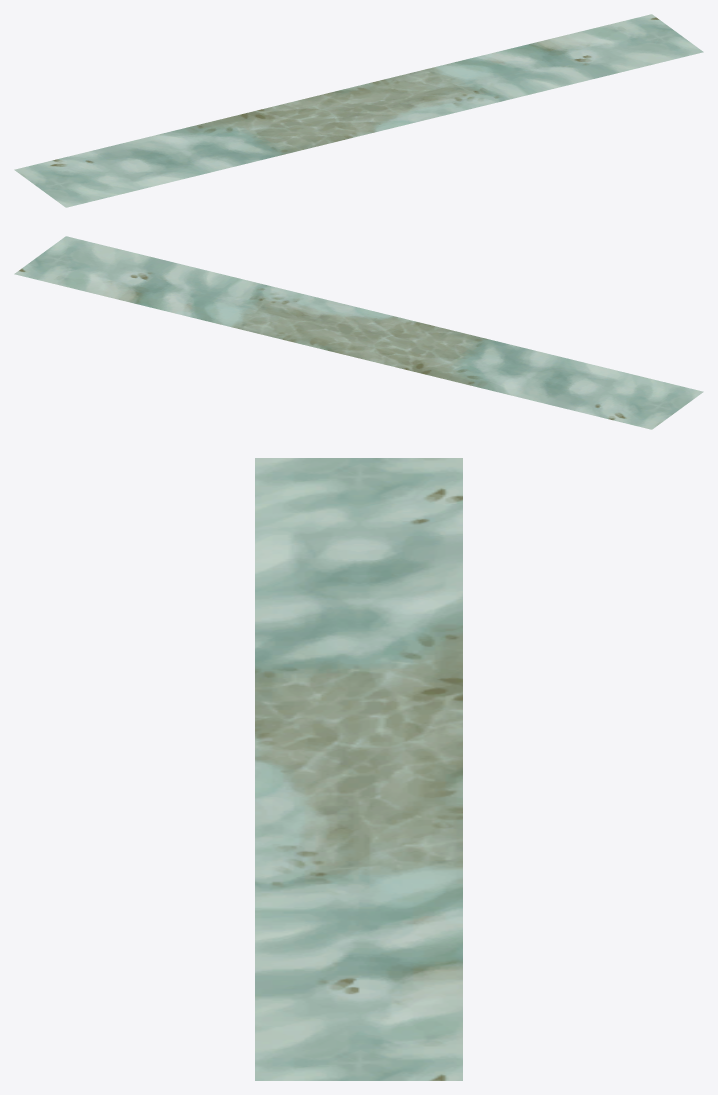
The model's file is grass_floor_01blender.fbx.
The picture shows the model from 3 angles, top to bottom: view 1: azimuth 30°, elevation 25°; view 2: azimuth 150°, elevation 25°; view 3: azimuth 270°, elevation 25°; orthographic projection. The views are drawn at different scales.
Visible parts, largest first — view 1: obj0.060; view 2: obj0.060; view 3: obj0.060.
Part boxes in pixels (x1,y1,x2,y2): obj0.060: (14,14,703,207); obj0.060: (14,236,703,429); obj0.060: (255,458,462,1080).
Bounding box in the file's own units: 21.25 × 1.46e-05 × 3.
